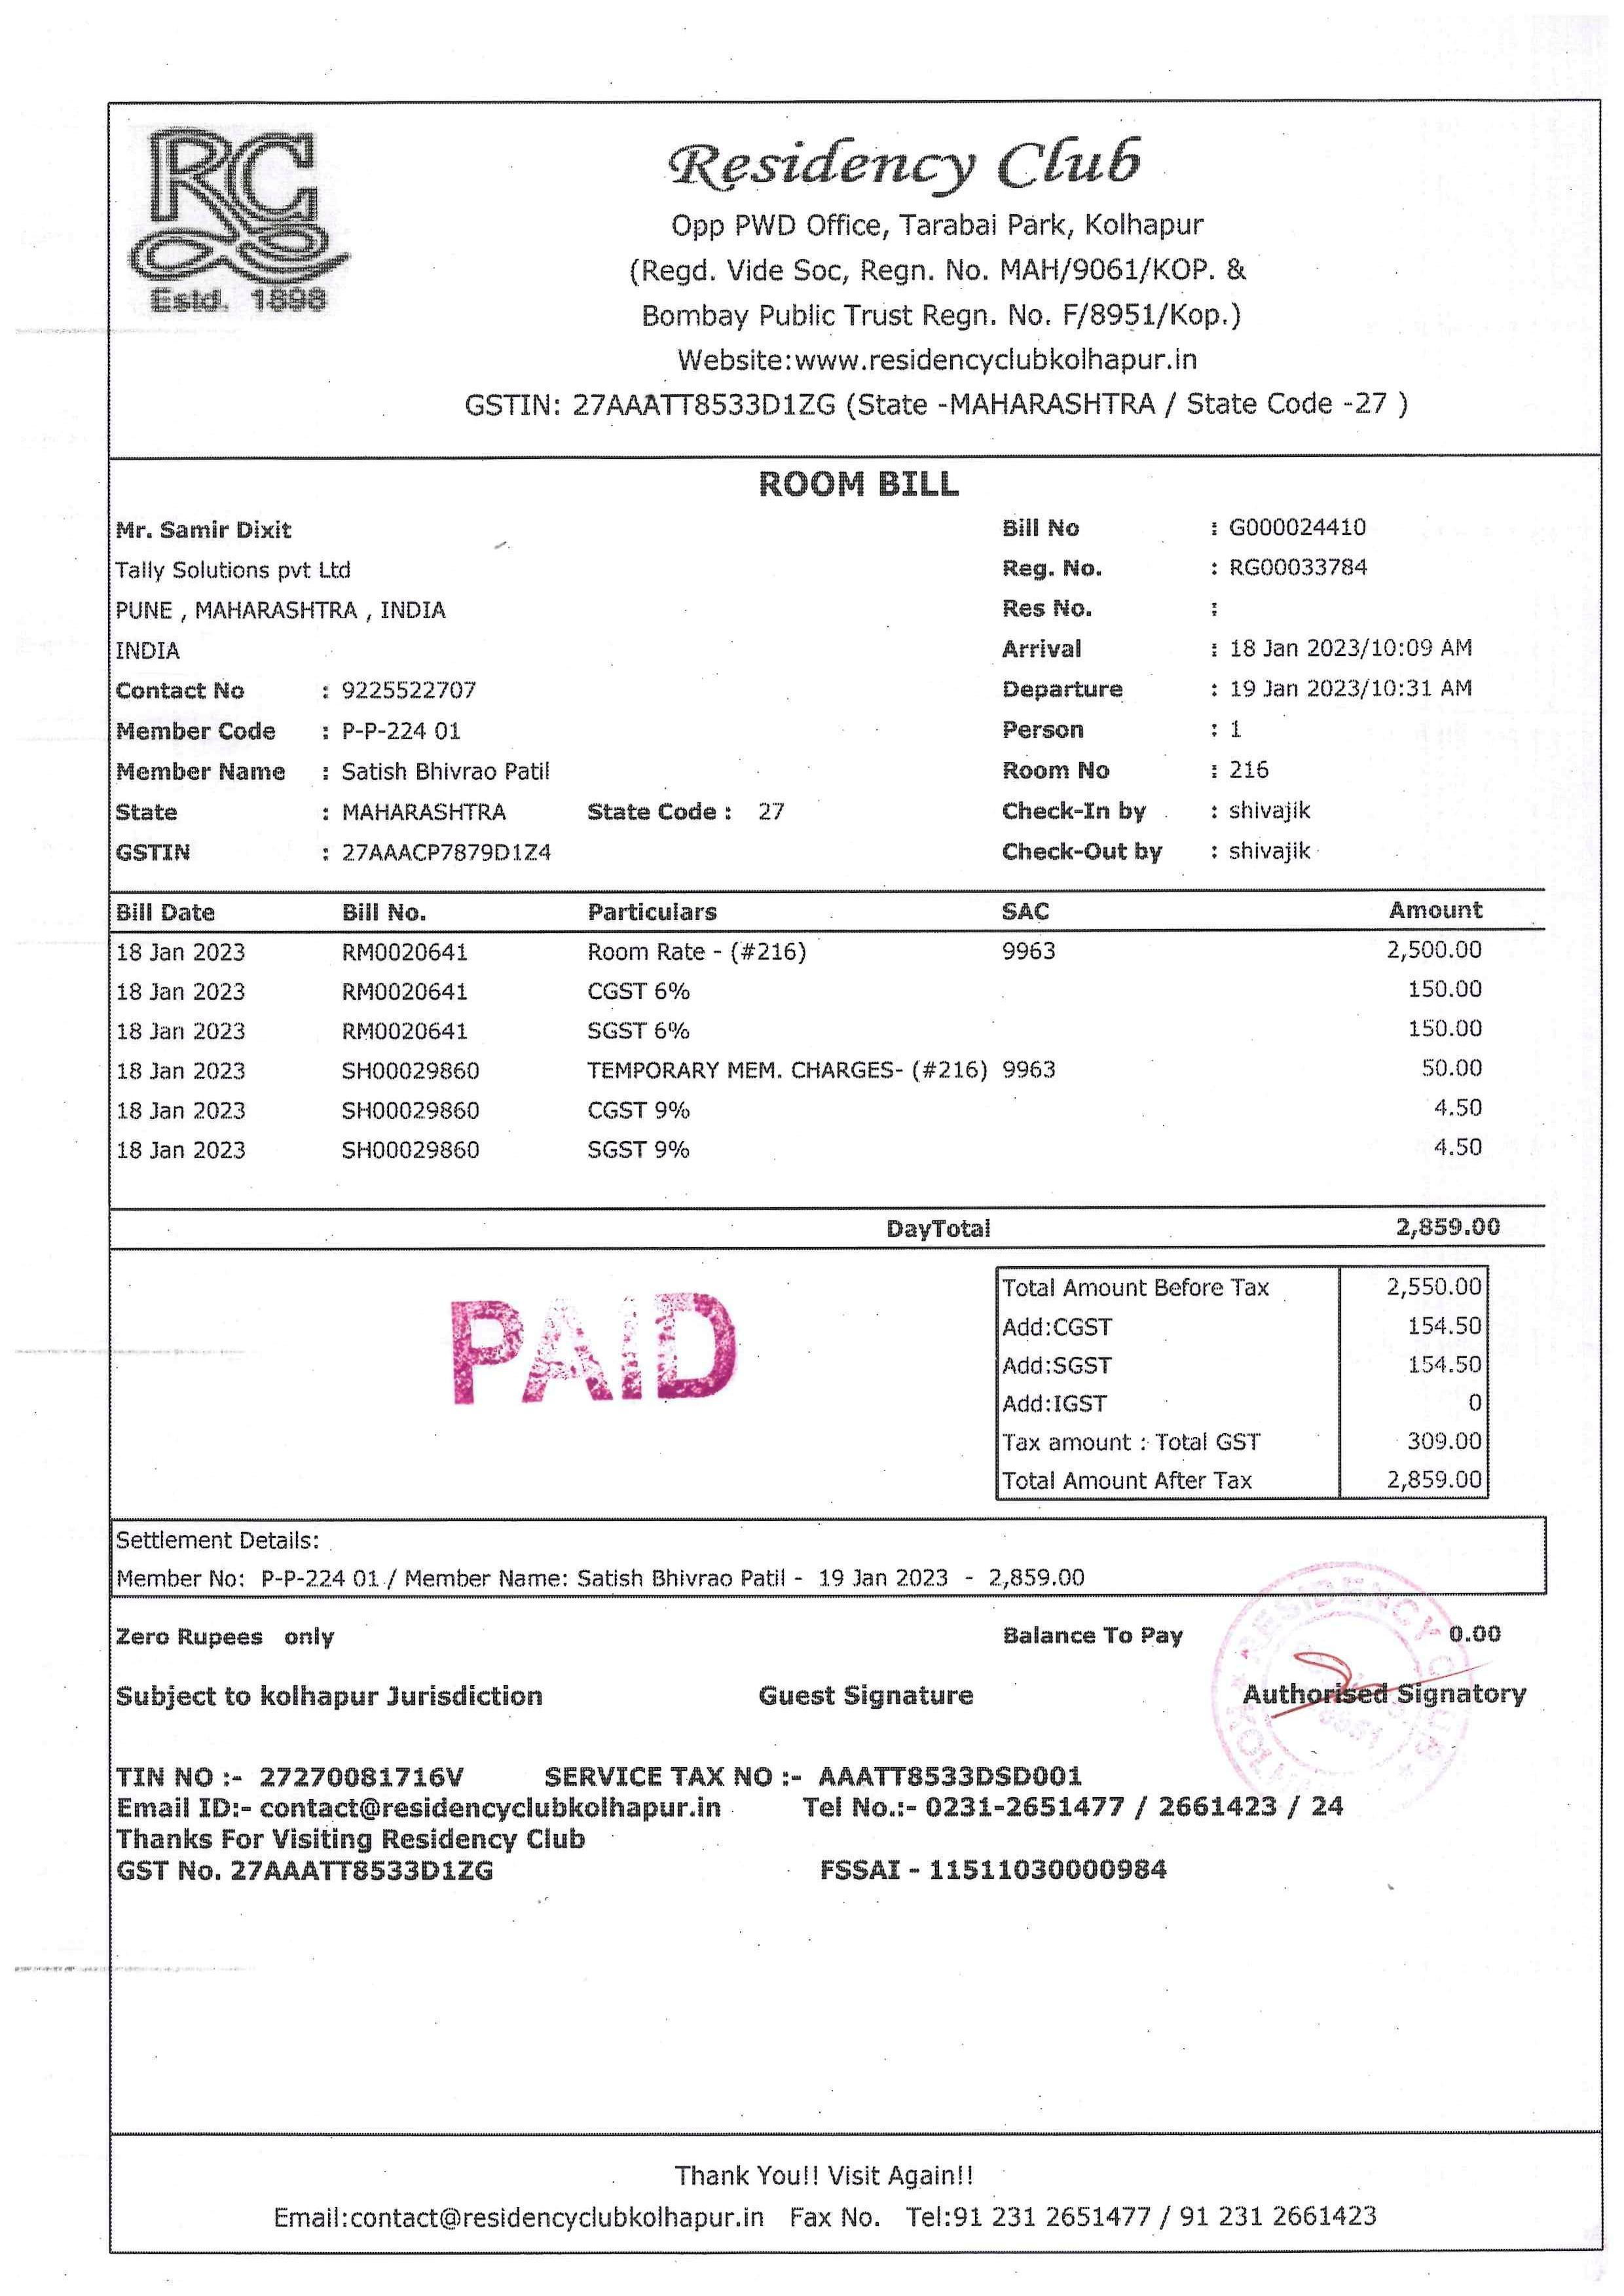InvoiceDate: (114, 933, 251, 970)
InvoiceNumber: (1220, 511, 1380, 541)
TotalAmount: (1381, 1212, 1517, 1242)
